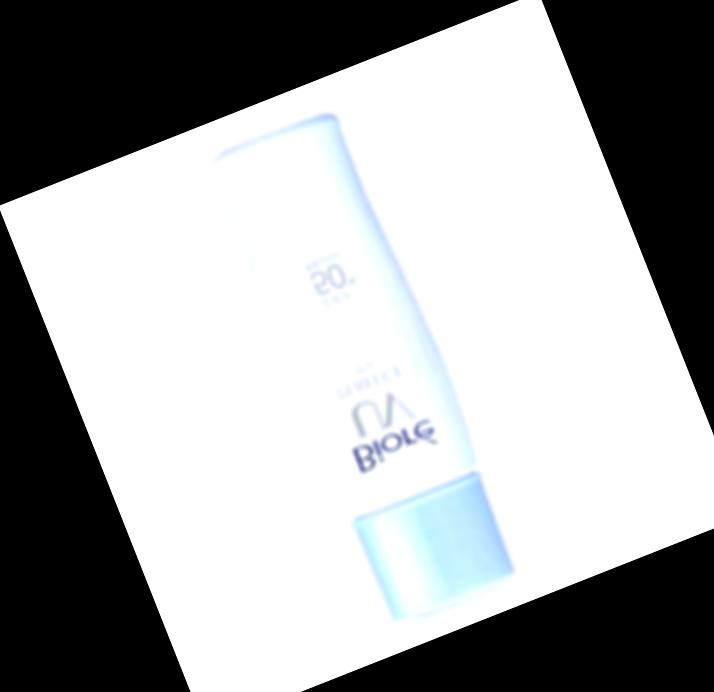cosmetic: (197, 102, 536, 632)
